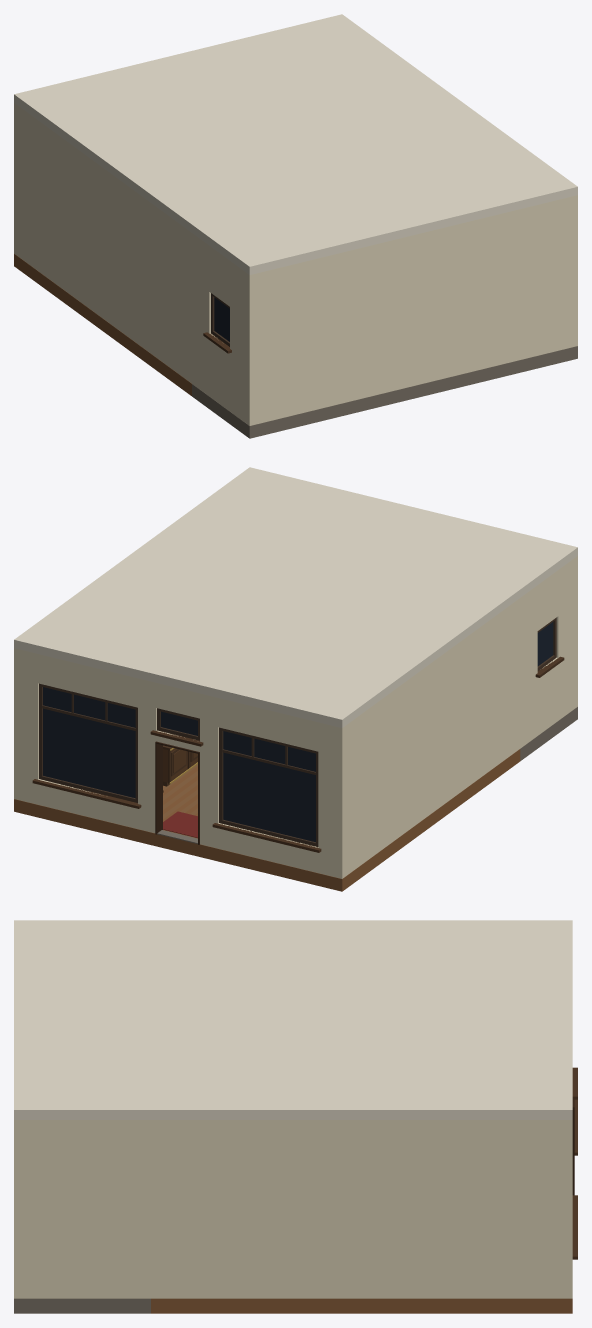
Rendered from Wnetrze_Ksiegarnia.fbx.
The picture shows the model from 3 angles, top to bottom: view 1: azimuth 30°, elevation 25°; view 2: azimuth 150°, elevation 25°; view 3: azimuth 270°, elevation 25°; orthographic projection. The views are drawn at different scales.
Parts seen in each view (by area): view 1: Ksiegarnia_Sciany, Ksiegarnia_Sufit_NOCOL, Ksiegarnia_Podloga, Ksiegarnia_Okna; view 2: Ksiegarnia_Sufit_NOCOL, Ksiegarnia_Sciany, Ksiegarnia_Okna, Ksiegarnia_Podloga, Ksiegarnia_Detal_NOCOL, Ksiegarnia_DrzwiWyjscie_Rama_NOCOL, Ksiegarnia_Lada; view 3: Ksiegarnia_Sufit_NOCOL, Ksiegarnia_Sciany, Ksiegarnia_Podloga, Ksiegarnia_Detal_NOCOL.
Boxes of the visible parts, x1=… form: Ksiegarnia_Sciany: x1=14, y1=103, x2=577, y2=425; Ksiegarnia_Sufit_NOCOL: x1=14, y1=14, x2=577, y2=274; Ksiegarnia_Podloga: x1=14, y1=254, x2=577, y2=438; Ksiegarnia_Okna: x1=214, y1=297, x2=229, y2=341; Ksiegarnia_Sufit_NOCOL: x1=14, y1=467, x2=577, y2=727; Ksiegarnia_Sciany: x1=14, y1=556, x2=577, y2=878; Ksiegarnia_Okna: x1=43, y1=622, x2=553, y2=842; Ksiegarnia_Podloga: x1=14, y1=707, x2=577, y2=891; Ksiegarnia_Detal_NOCOL: x1=32, y1=617, x2=564, y2=852; Ksiegarnia_DrzwiWyjscie_Rama_NOCOL: x1=155, y1=741, x2=199, y2=844; Ksiegarnia_Lada: x1=163, y1=745, x2=197, y2=786; Ksiegarnia_Sufit_NOCOL: x1=14, y1=920, x2=572, y2=1119; Ksiegarnia_Sciany: x1=14, y1=1120, x2=572, y2=1298; Ksiegarnia_Podloga: x1=14, y1=1298, x2=572, y2=1313; Ksiegarnia_Detal_NOCOL: x1=572, y1=1067, x2=577, y2=1259.
Bounding box in the file's own units: 8.3 × 4.1 × 10.3.
